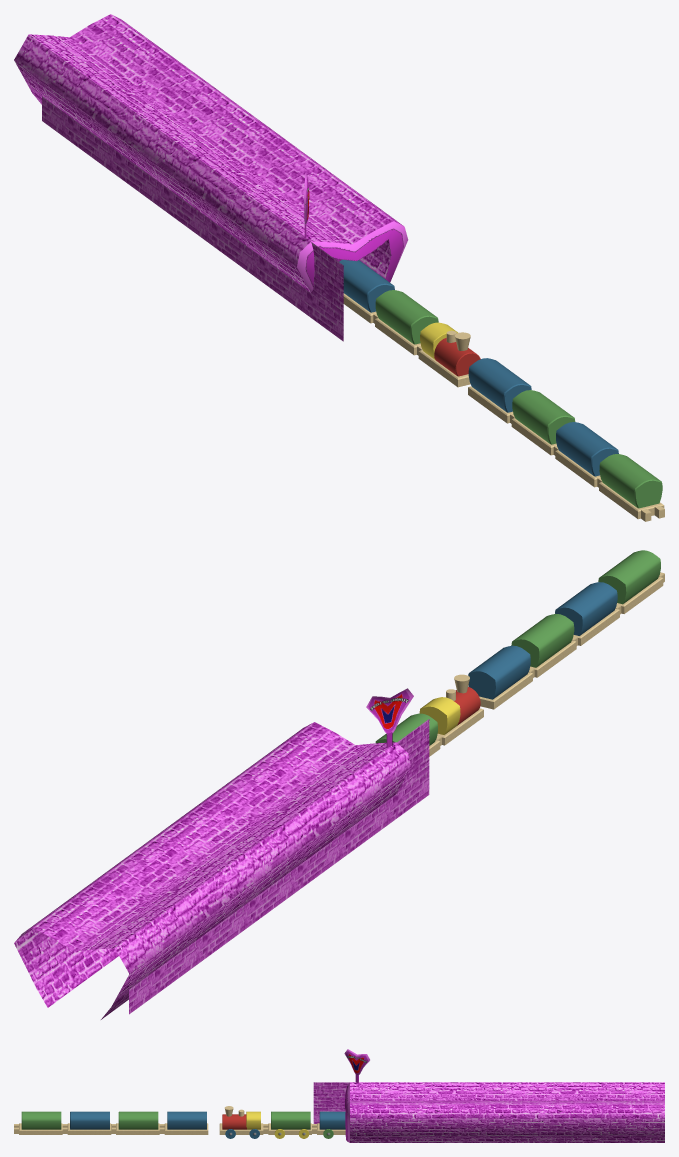
Rendered from train_grp.fbx.
The picture shows the model from 3 angles, top to bottom: view 1: azimuth 30°, elevation 25°; view 2: azimuth 150°, elevation 25°; view 3: azimuth 270°, elevation 25°; orthographic projection. The views are drawn at different scales.
Parts seen in each view (by area): view 1: tunnel1, train_level, tunnelWall, train; view 2: tunnel1, train_level, tunnelWall, train, tunnel_sign; view 3: tunnel1, train_level, train, tunnelWall, tunnel_sign.
Boxes of the visible parts, x1,y1,x2,y2 form: tunnel1: [14, 14, 408, 292]; train_level: [468, 358, 664, 521]; tunnelWall: [42, 47, 343, 341]; train: [339, 259, 480, 387]; tunnel1: [14, 722, 410, 1019]; train_level: [468, 550, 664, 709]; tunnelWall: [129, 719, 429, 1014]; train: [375, 674, 483, 756]; tunnel_sign: [366, 688, 413, 747]; tunnel1: [345, 1082, 664, 1142]; train_level: [14, 1111, 208, 1134]; train: [219, 1106, 345, 1138]; tunnelWall: [313, 1082, 349, 1123]; tunnel_sign: [344, 1049, 369, 1082].
Size of the model in its own units: 420 by 456 by 3670.
